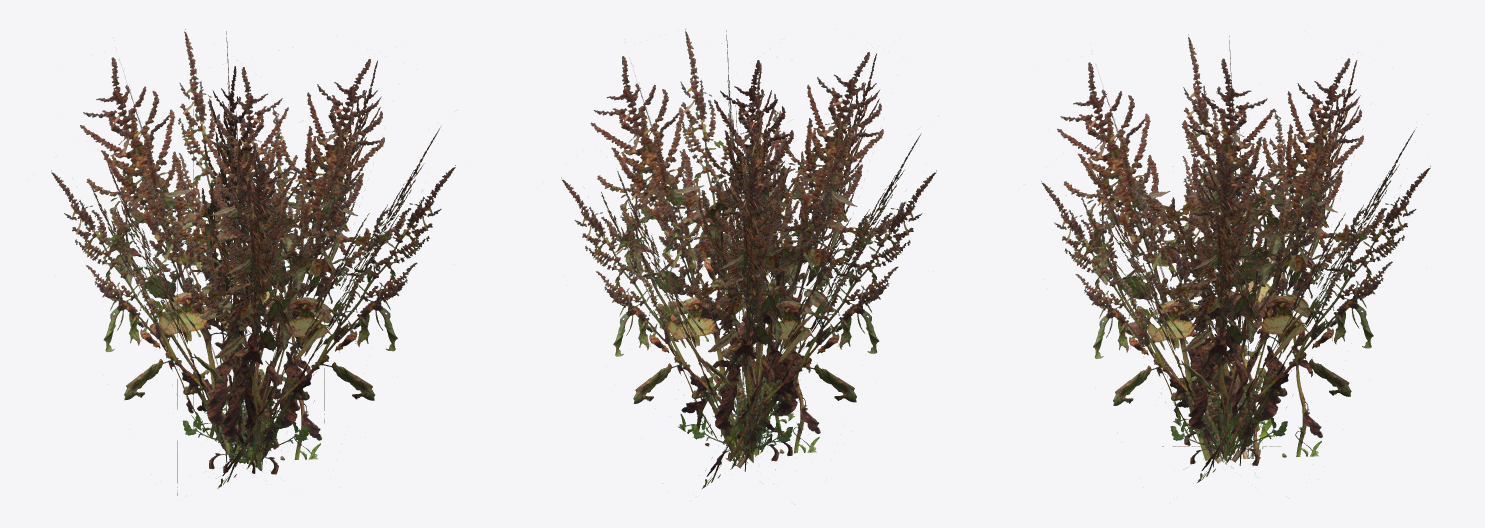
File: bush12.FBX
The picture shows the model from 3 angles, left to right: view 1: azimuth 30°, elevation 25°; view 2: azimuth 150°, elevation 25°; view 3: azimuth 270°, elevation 25°; orthographic projection.
Parts seen in each view (by area): view 1: bush12; view 2: bush12; view 3: bush12.
Part boxes in pixels (left/top/right/bottom): bush12: left=51, top=29, right=455, bottom=495; bush12: left=561, top=29, right=936, bottom=489; bush12: left=1041, top=34, right=1430, bottom=482.
Bounding box in the file's own units: 1.22 × 1.23 × 1.2.
